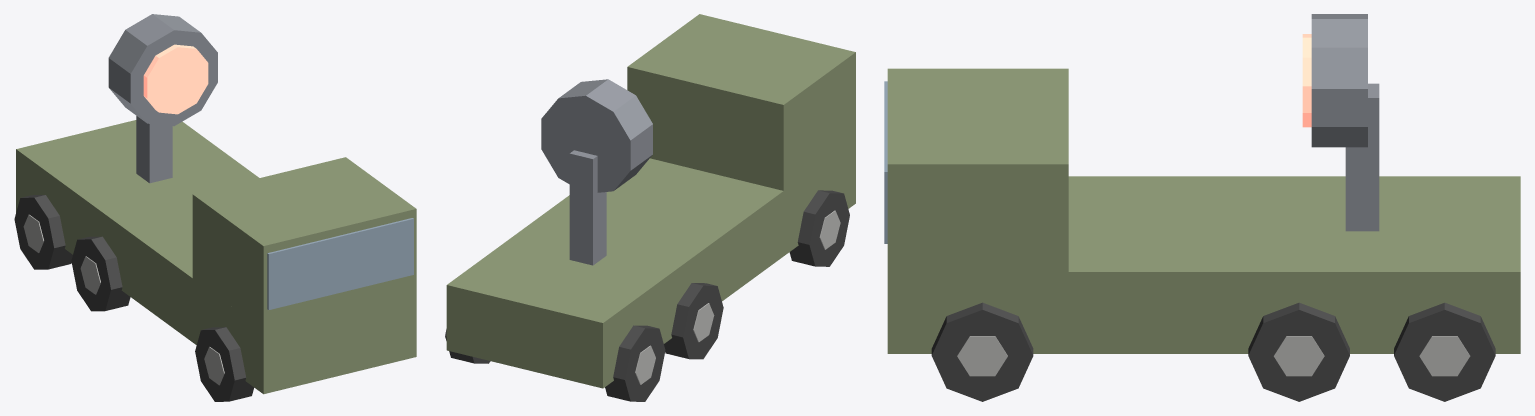
Rendered from laser_truck.glb.
3 views of the same model, side by side, from view 1: azimuth 30°, elevation 25°; view 2: azimuth 150°, elevation 25°; view 3: azimuth 270°, elevation 25° (orthographic). The views are drawn at different scales.
Visible parts, largest first — view 1: laser_truck; view 2: laser_truck; view 3: laser_truck.
Boxes of the visible parts, <box> form: laser_truck: <box>14,14,416,401</box>; laser_truck: <box>445,14,855,401</box>; laser_truck: <box>884,14,1520,401</box>.
Bounding box in the file's own units: 2.32 × 3.2 × 5.63.
